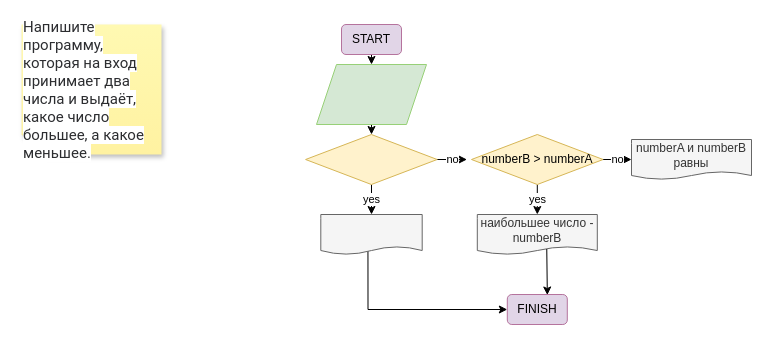
Image size: 769x342. Some labels were removed from this diagram. The shapes that lost their labels are listed below. From the top down, each one's centre as x and y in pixels, then its label:
the point at 371,94: введите целые числа numberA, numberB
the point at 371,159: numberA > numberB
the point at 371,234: наибольшее число - numberA
